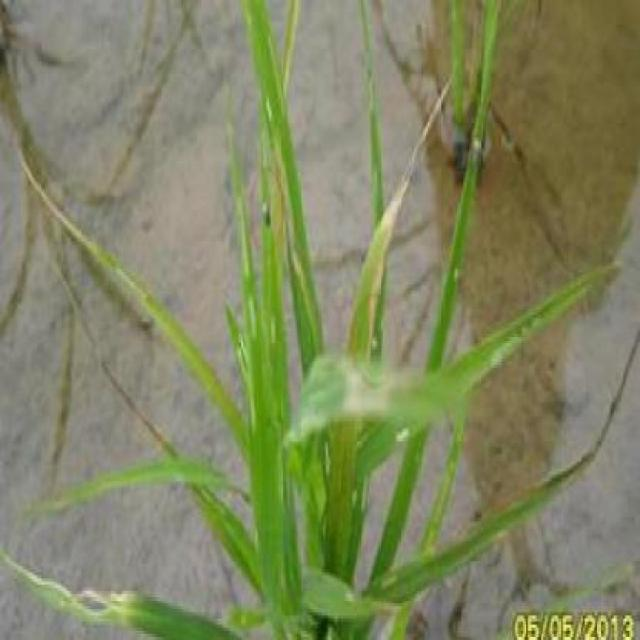rice-bug: (258, 197, 276, 229)
